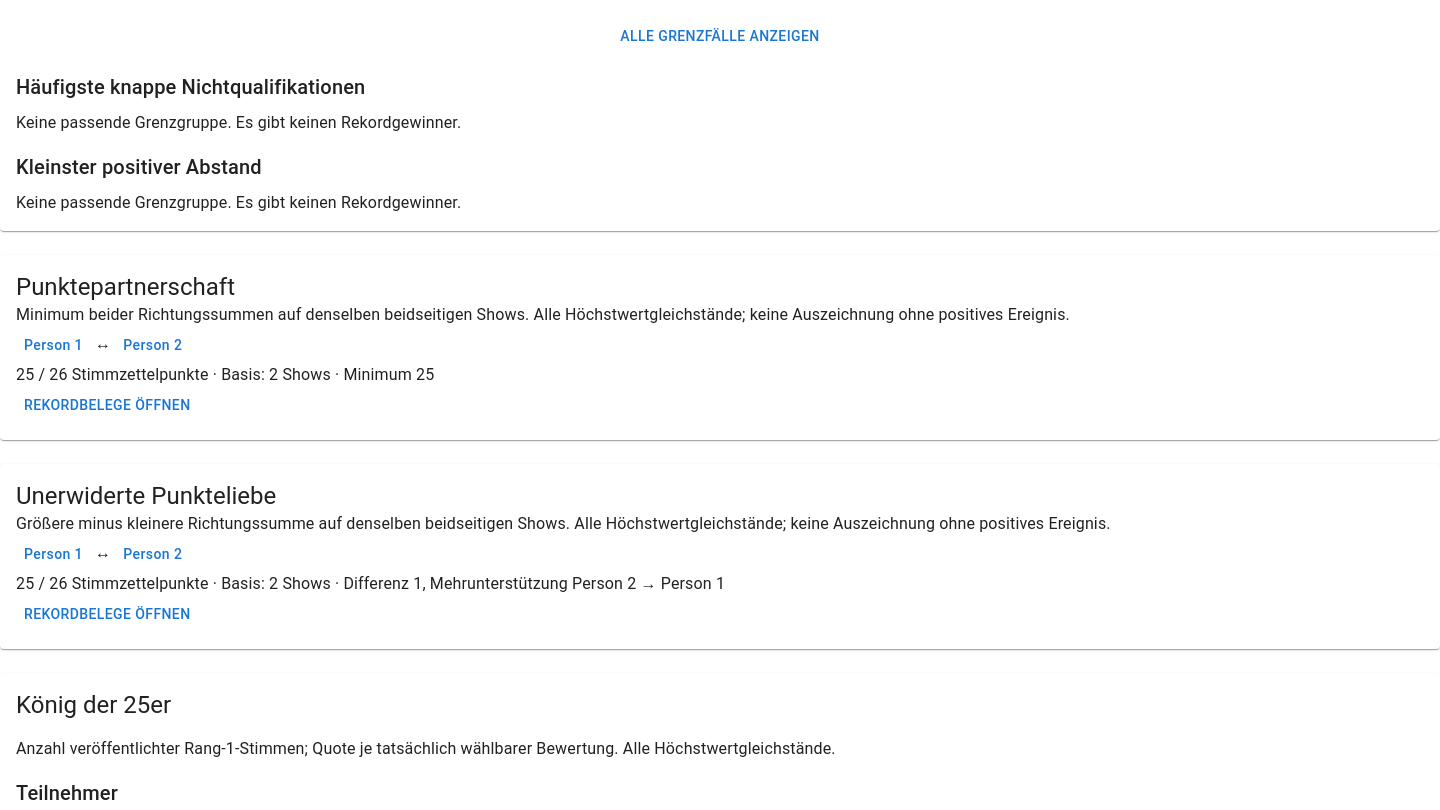
S2-T06 statistics UI and shared evidence › opens all four record kinds and their show, contribution or run evidence
This screenshot has width=1440, height=810.
(page scrolled)
Expected: the heading "Punktepartnerschaft" is shown, [16,273,235,301]
Expected: the heading "Unerwiderte Punkteliebe" is shown, [16,482,276,510]
Click the button "Rekordbelege öffnen" below "Minimum 25": (107, 406) [16,387,198,424]
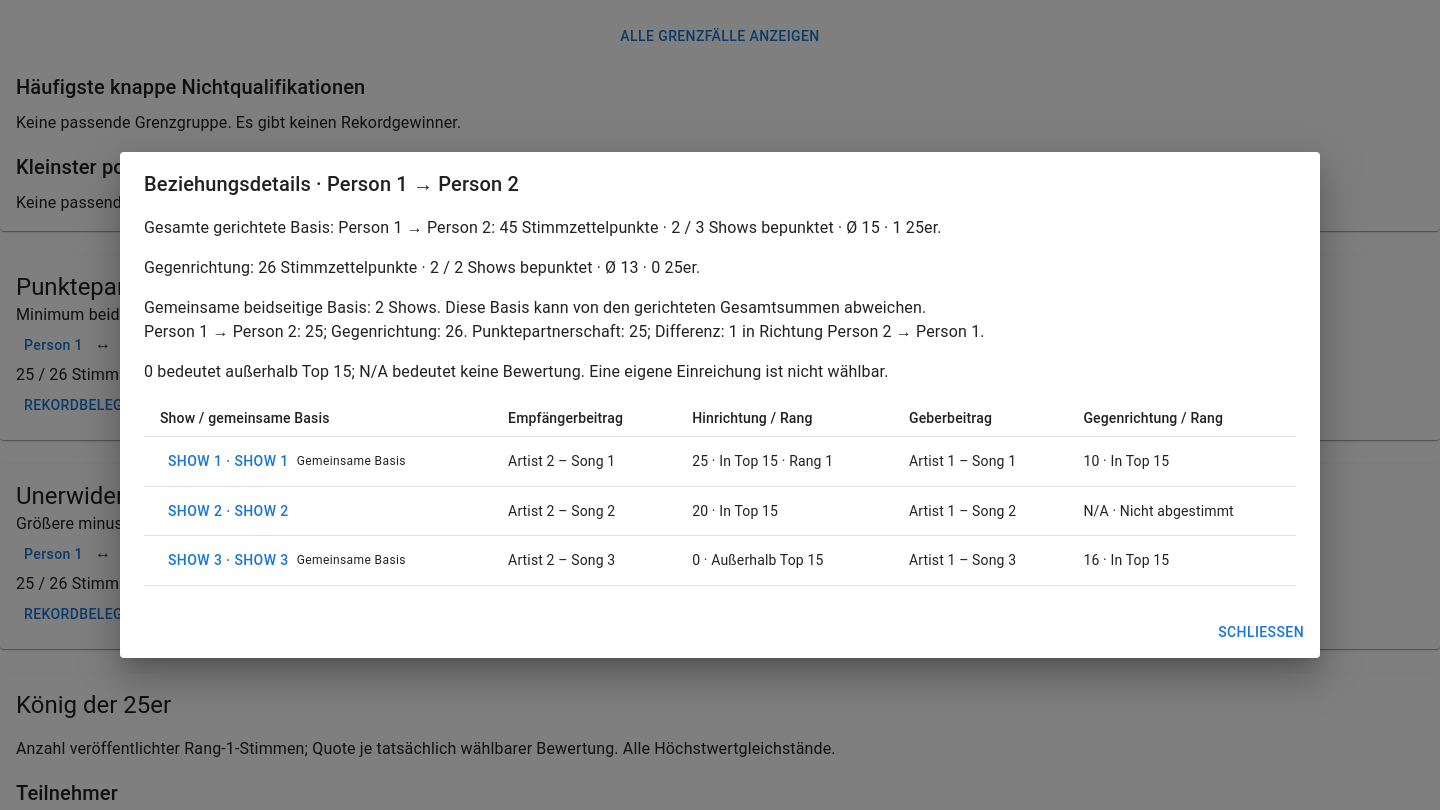
Result: the dialog shows "Gemeinsame beidseitige Basis: 2 Shows" at [120,152,1320,658]
Click the button "Schließen": (1261, 632) [1210,614,1312,650]
(page scrolled)
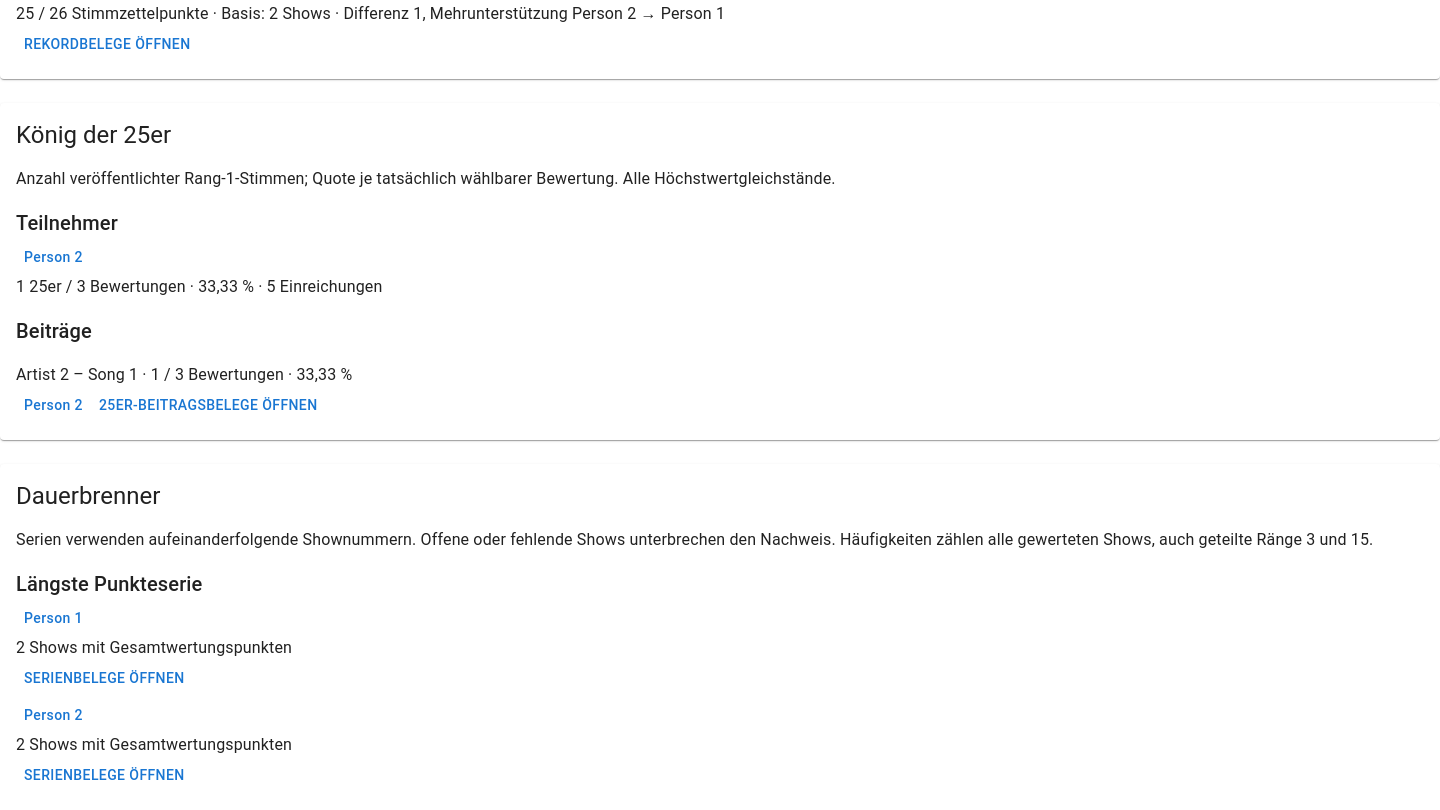
Result: the dialog is gone
Click the button "25er-Beitragsbelege öffnen": (208, 406) [91,388,326,424]
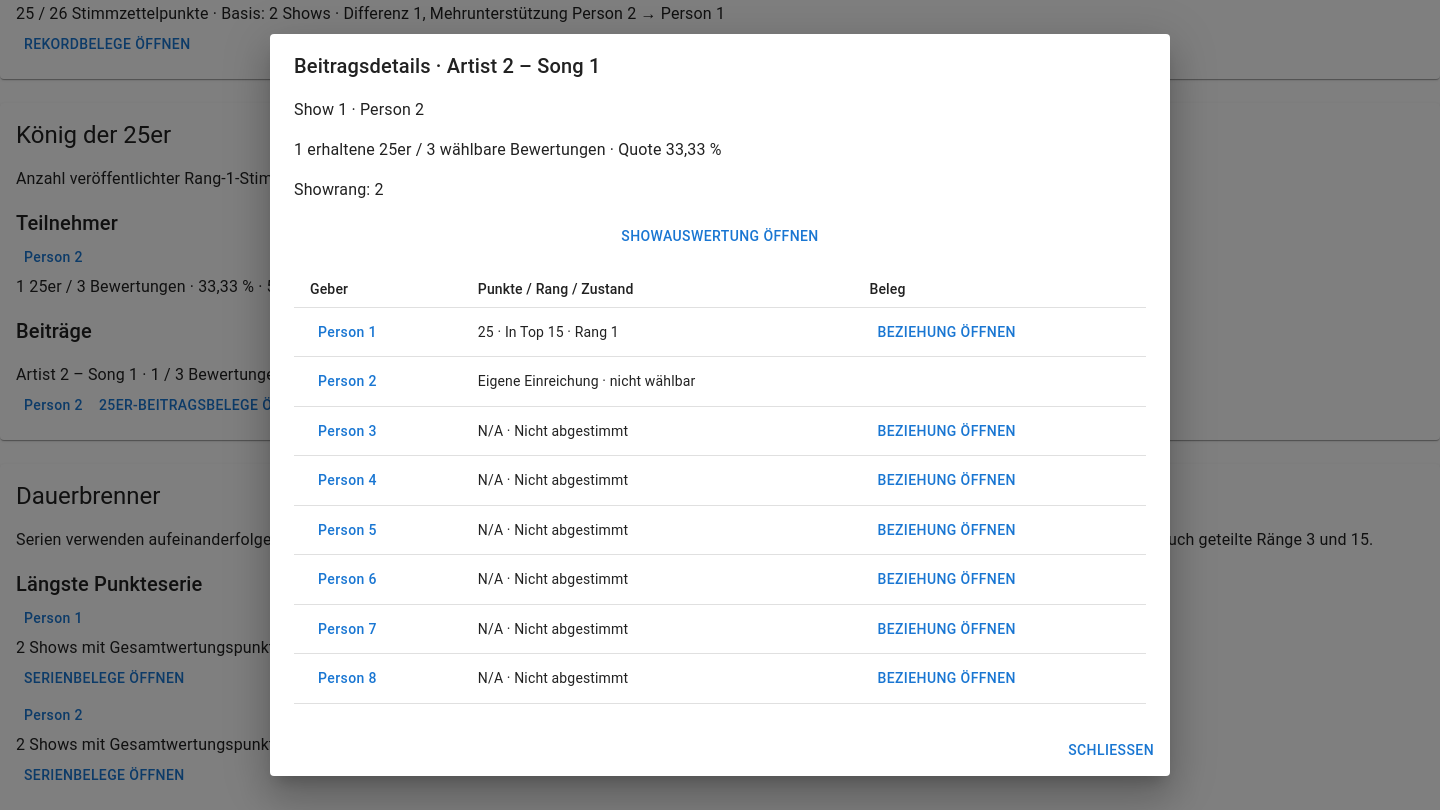
Result: the dialog shows "1 erhaltene 25er / 3 wählbare Bewertungen" at [294,140,722,159]
Result: the table named "Beitragswertungen" shows "Rang 1" at [478,324,619,340]
Click the button "Schließen": (1111, 750) [1060,732,1162,768]
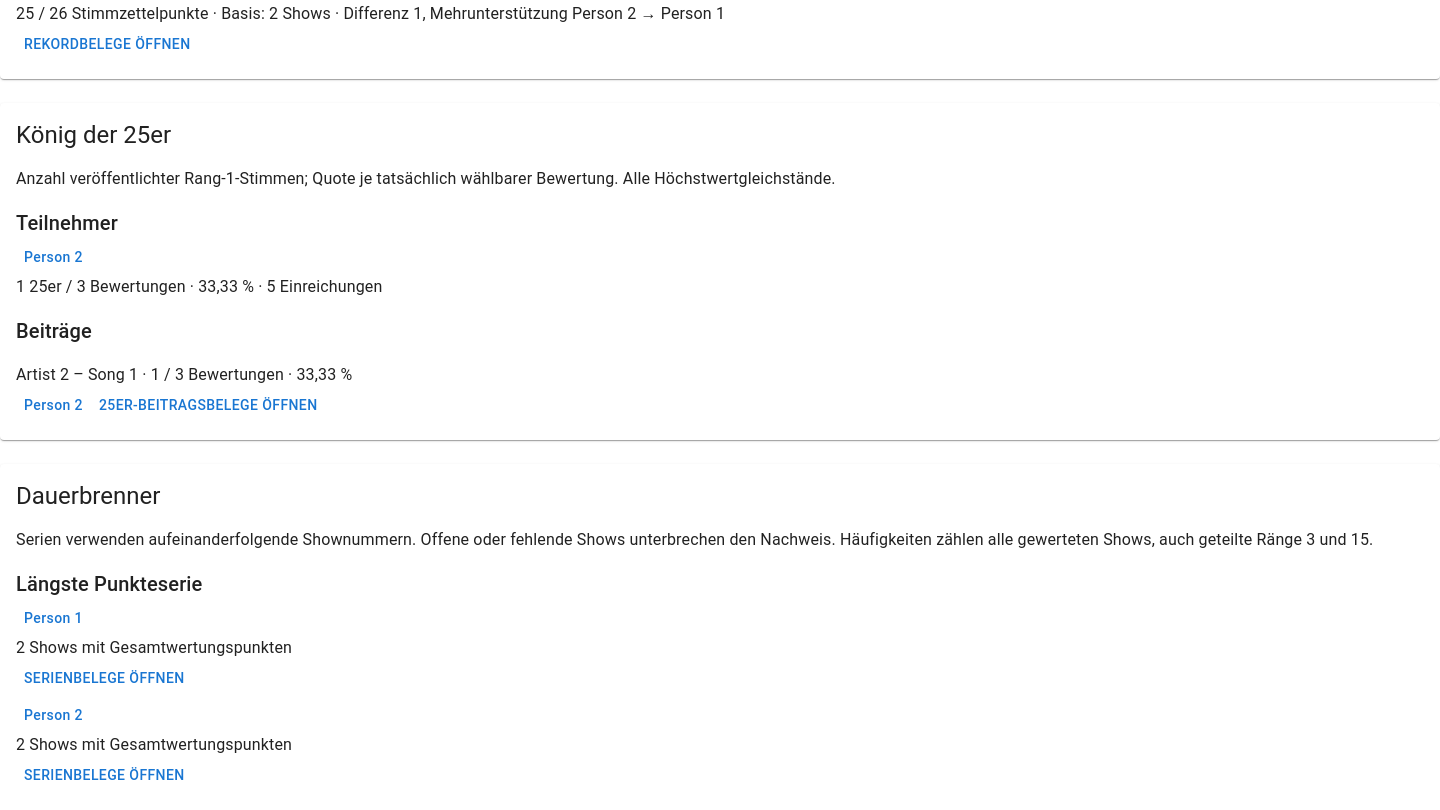
Result: the dialog is gone
Click the 1st button "Serienbelege öffnen": (104, 679) [16,660,193,697]
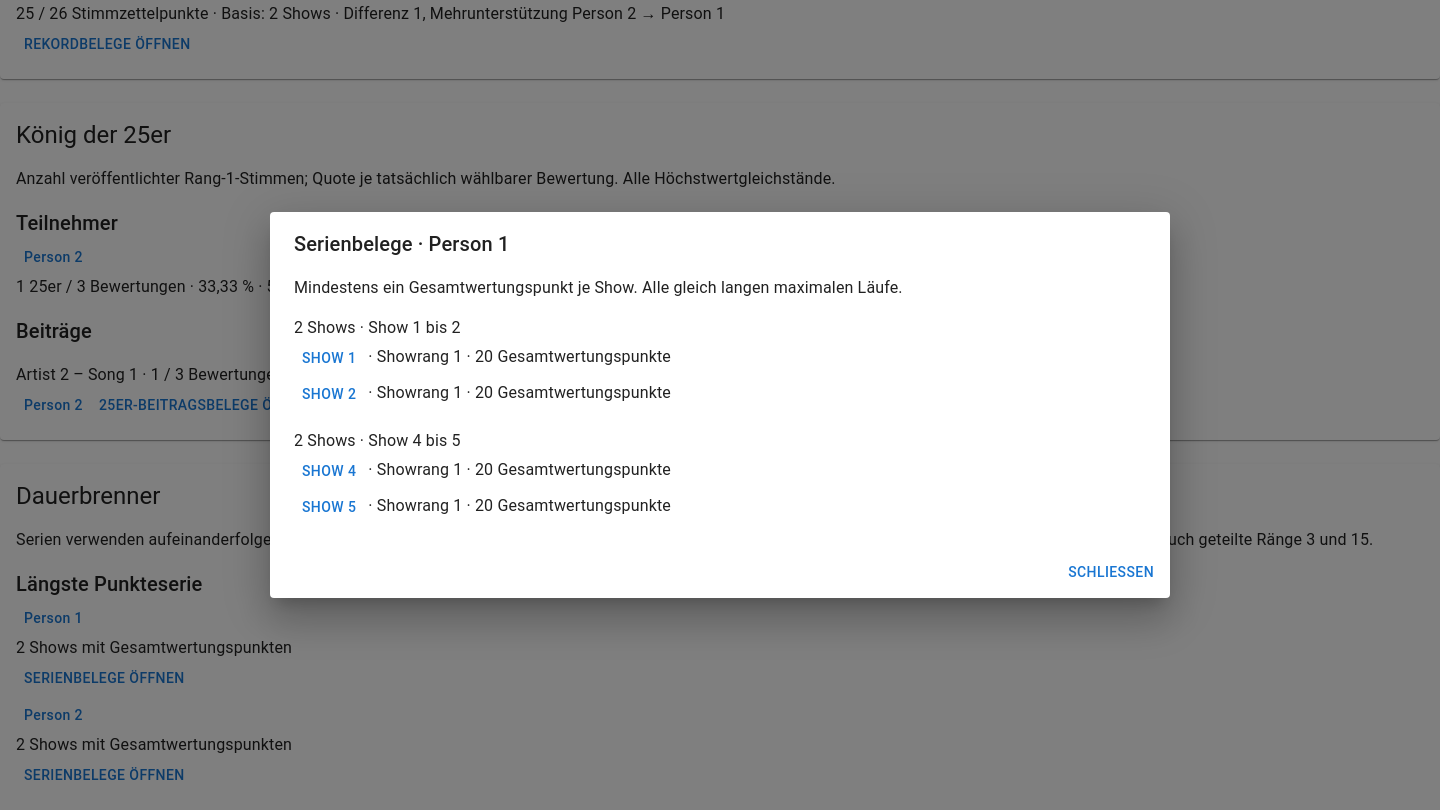
Result: the dialog shows "Gesamtwertungspunkte" at [493,347,671,366]
Click the button "Schließen": (1111, 572) [1060,554,1162,590]
(page scrolled)
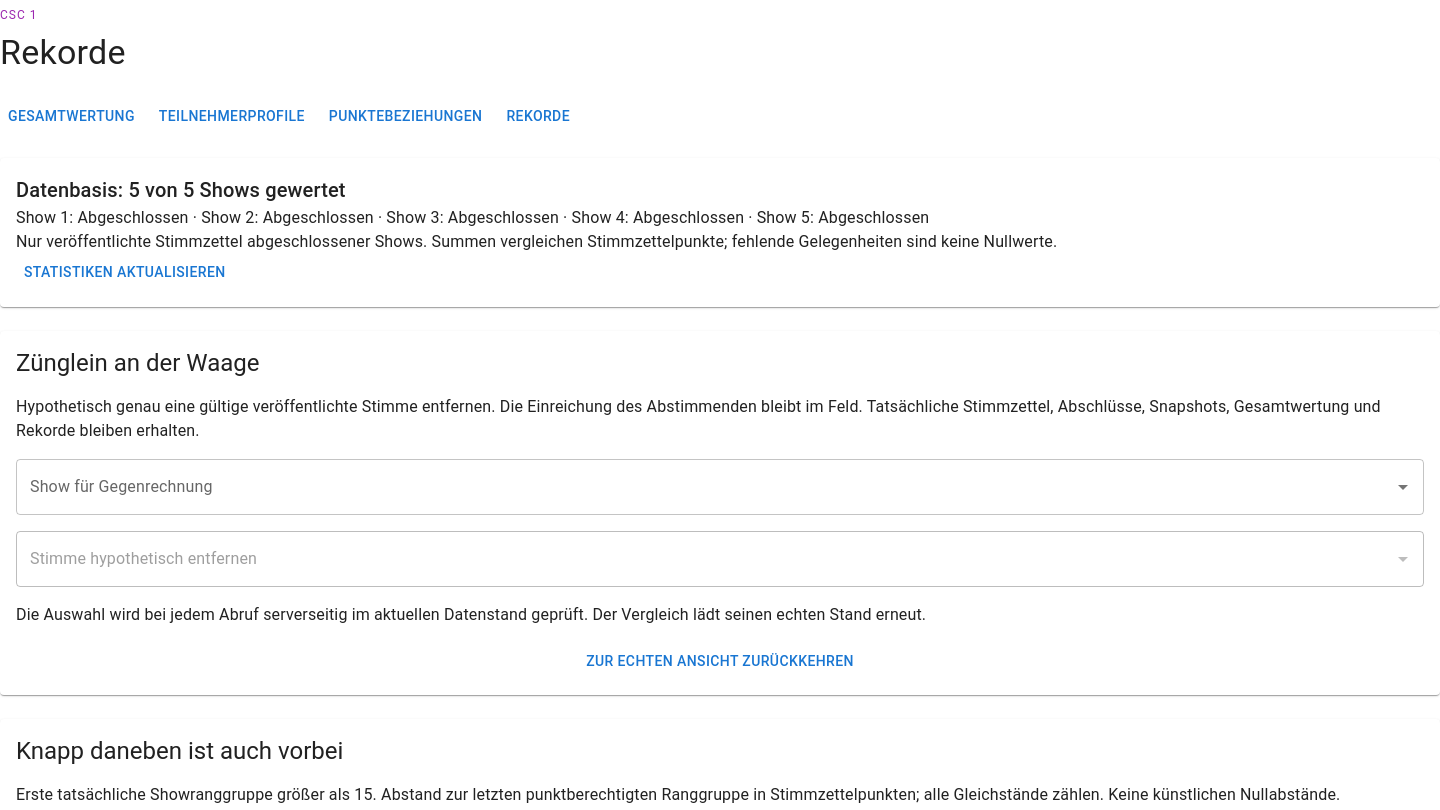
Expected: the navigation bar named "Contestauswertung" shows "Gesamtwertung", [0,98,143,134]
Result: the dialog is gone
